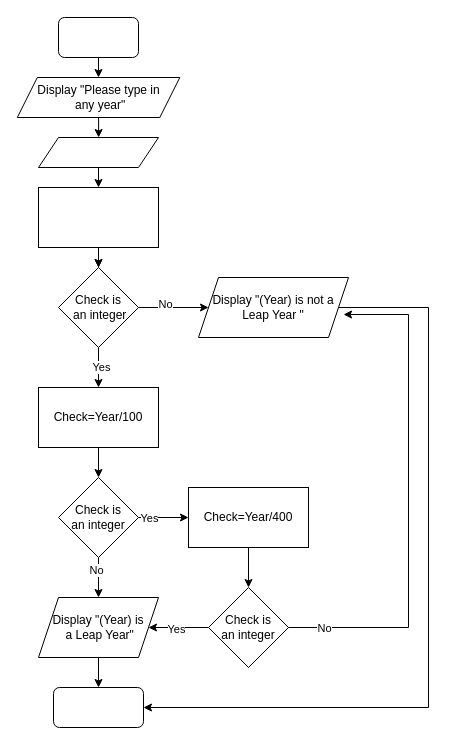
The diagram is 455 pixels wide and 745 high, and some of its shapes have lost their labels. The shapes that lost their labels are listed below. From the top down, each one's box as (x1, y1, x2, y2) in pixels, then its label:
(58, 16, 138, 58): Start
(38, 136, 158, 168): Input=Year
(38, 186, 158, 248): Check=Year/4
(52, 686, 144, 728): End
